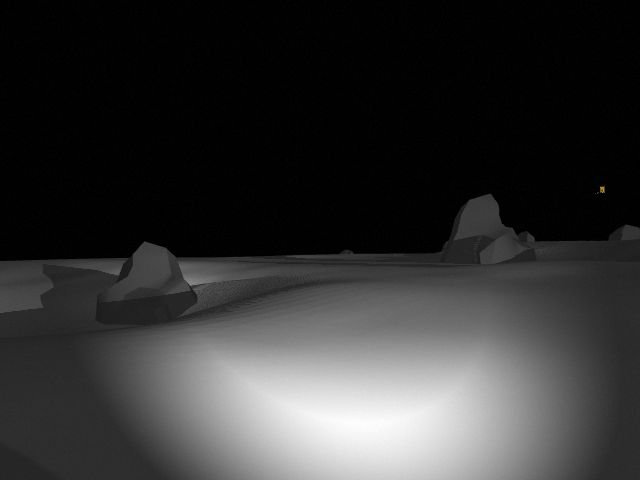cubesat: (597, 185, 606, 195)
